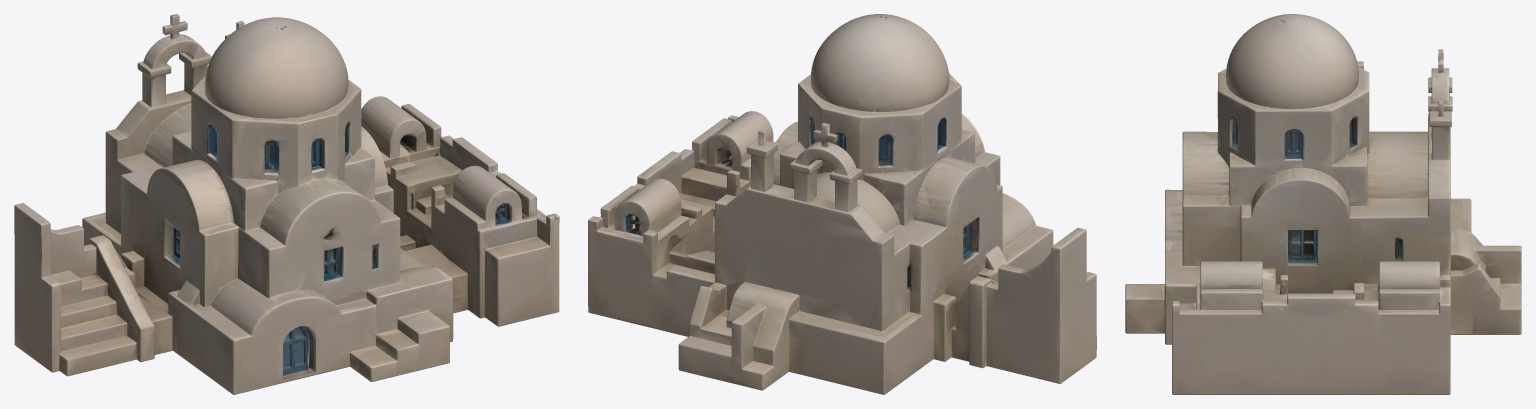
3 views of the same model, side by side, from view 1: azimuth 30°, elevation 25°; view 2: azimuth 150°, elevation 25°; view 3: azimuth 270°, elevation 25° (orthographic). The views are drawn at different scales.
Parts seen in each view (by area): view 1: Untitled_4; view 2: Untitled_4; view 3: Untitled_4.
Boxes of the visible parts, x1,y1,x2,y2 form: Untitled_4: (14, 14, 559, 394); Untitled_4: (588, 14, 1096, 394); Untitled_4: (1125, 14, 1521, 394).
Size of the model in its own units: 2 by 1.27 by 1.65.
Materials: 1 (1 with a texture image).
